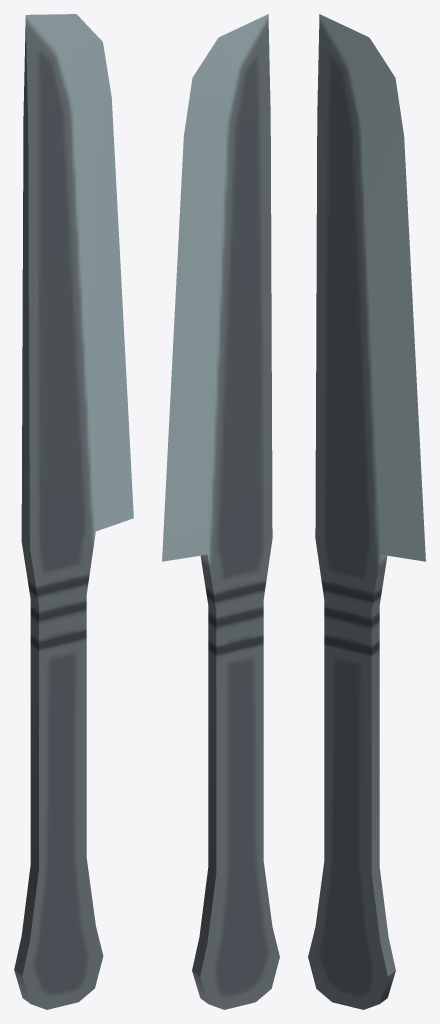
File: Utensil_Knife.FBX
3 renders of one model, left to right at view 1: azimuth 30°, elevation 25°; view 2: azimuth 210°, elevation 25°; view 3: azimuth 330°, elevation 25°, orthographic.
Visible parts, largest first — view 1: Box124; view 2: Box124; view 3: Box124.
Part boxes in pixels (x1,y1,x2,y2): Box124: (14,14,133,1009); Box124: (162,14,279,1009); Box124: (308,14,425,1009).
Bounding box in the file's own units: 16.9 × 139 × 2.08.
